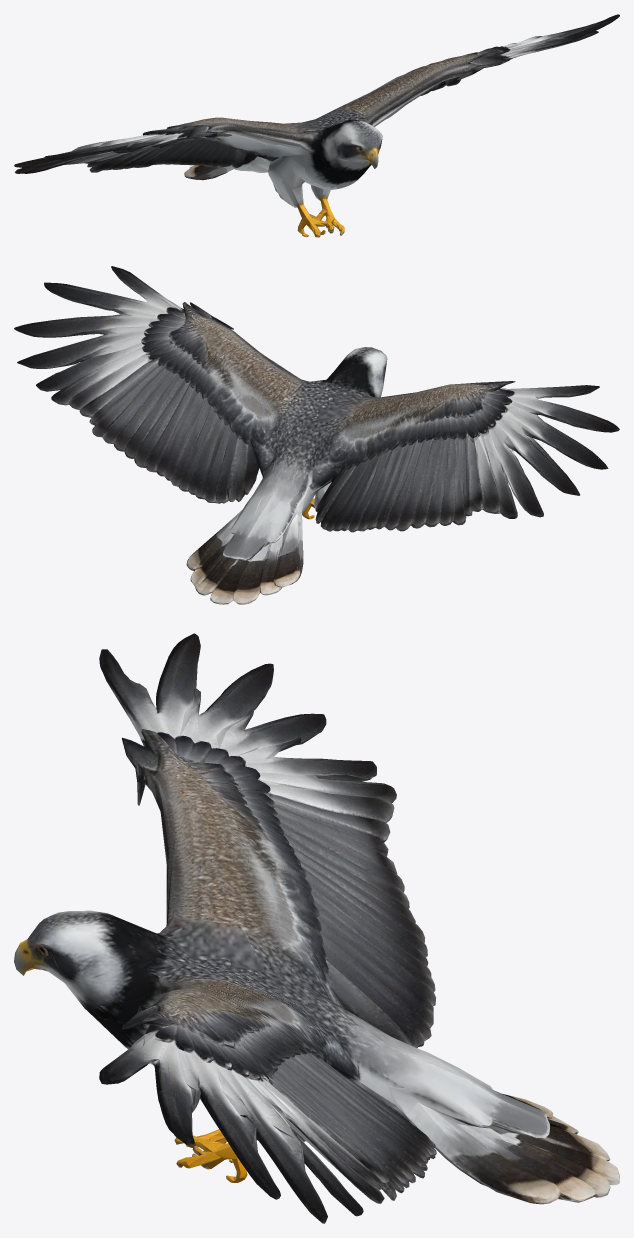
Rendered from fauna_eagle.glb.
The picture shows the model from 3 angles, top to bottom: view 1: azimuth 30°, elevation 25°; view 2: azimuth 150°, elevation 25°; view 3: azimuth 270°, elevation 25°; orthographic projection. The views are drawn at different scales.
Bounding box in the file's own units: 1.9 × 0.5366 × 0.9207.
Materials: 1 (1 with a texture image).
